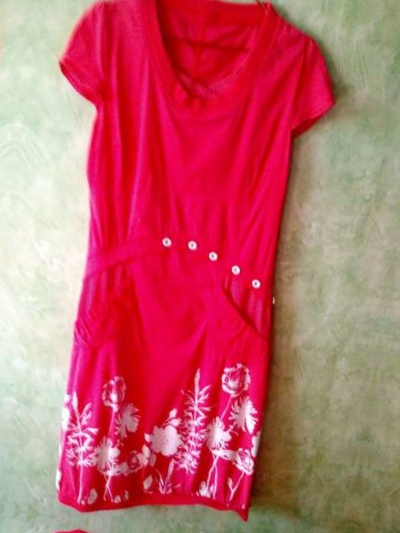Dress: (6, 0, 383, 533), (0, 516, 297, 533), (90, 0, 400, 11), (396, 26, 400, 533)
